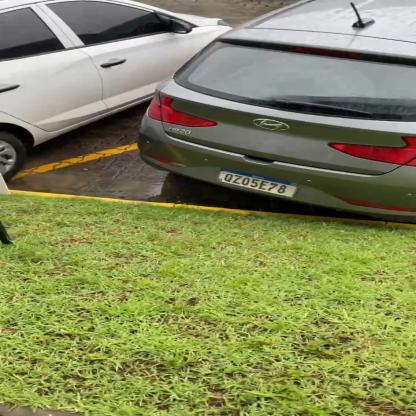Plate: (215, 165, 306, 202)
